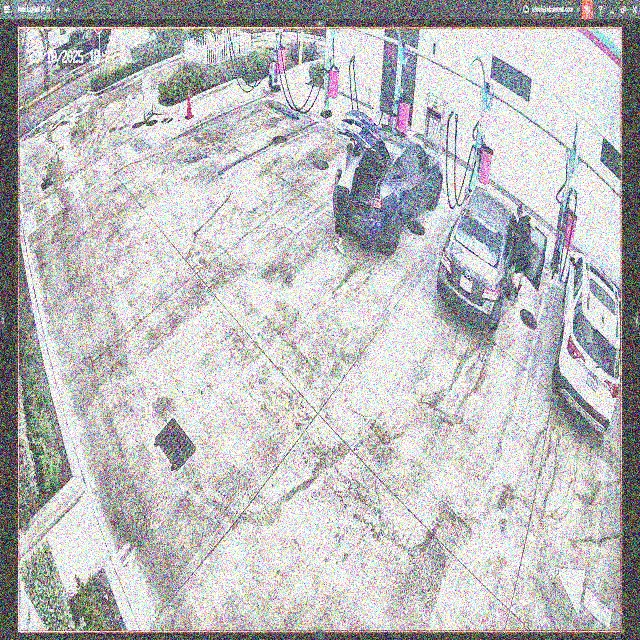Car: (336, 108, 443, 248), (440, 186, 540, 329)
